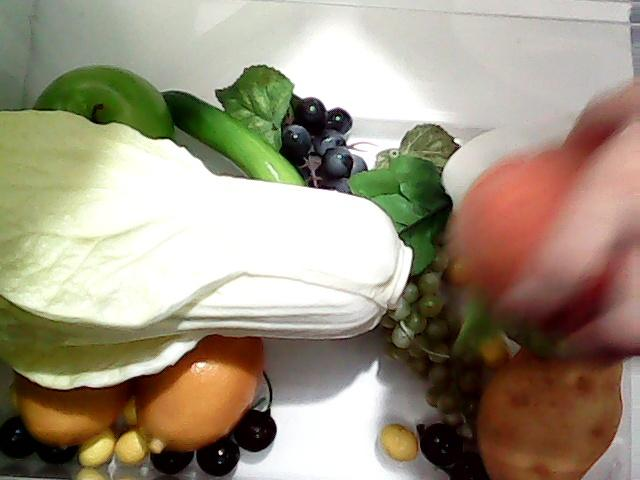apple: (22, 57, 190, 163)
grape: (394, 246, 470, 410), (292, 95, 364, 186)
lemon: (136, 327, 268, 455)
mango: (11, 380, 129, 452)
napa cabbage: (2, 133, 390, 359)
peach: (454, 144, 640, 347), (448, 146, 636, 322)
pepper: (157, 85, 307, 186)
potato: (476, 346, 624, 478)
radish: (336, 103, 640, 282)
